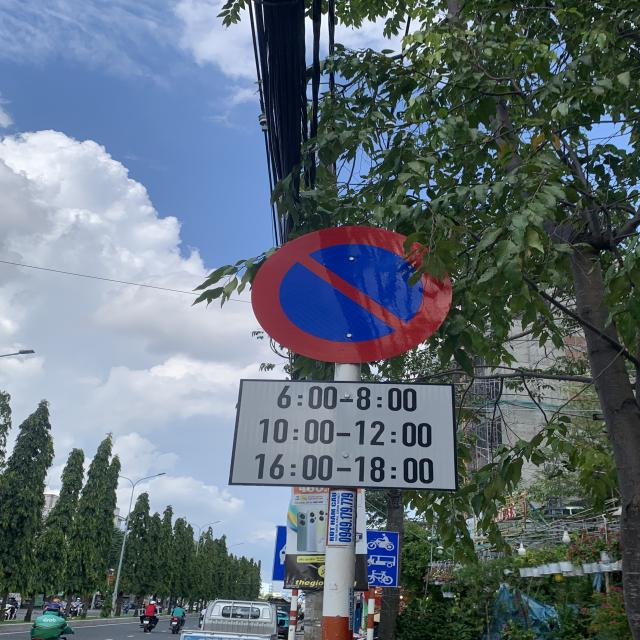Cam_Dau_Xe: (252, 226, 452, 365)
